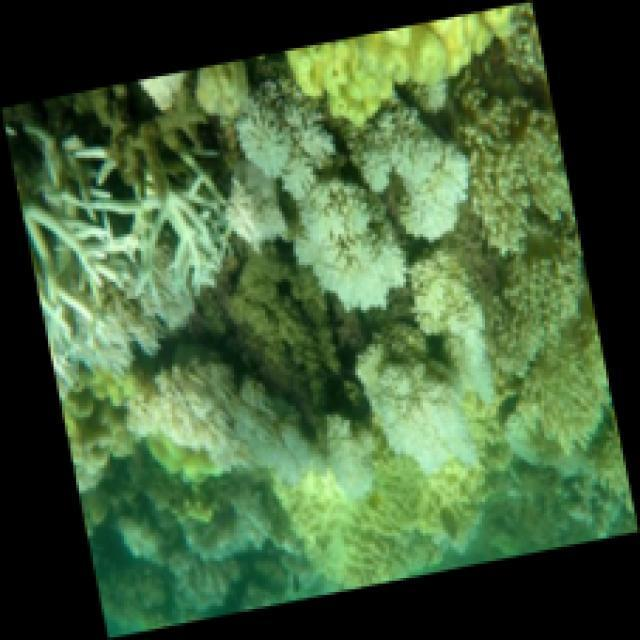Bleached: (4, 117, 237, 389), (127, 353, 378, 503), (354, 255, 500, 476), (338, 105, 474, 246), (231, 78, 339, 252), (294, 181, 412, 314)
Healthy: (286, 4, 521, 132)
